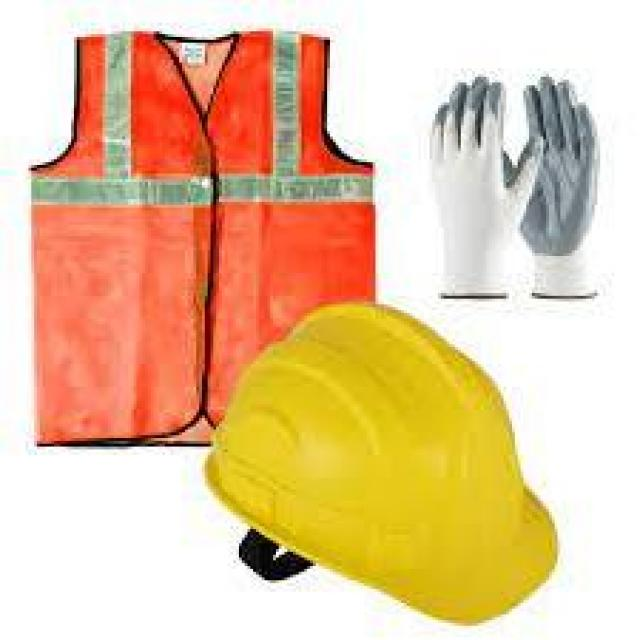Reflective-Jacket: (25, 26, 384, 454)
Safety-Helmet: (185, 290, 572, 640)
